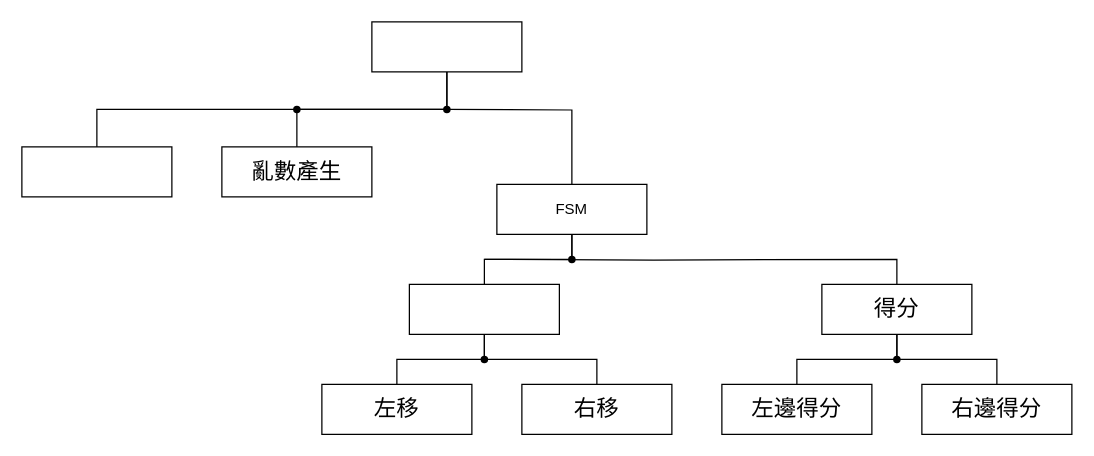
Some shapes in this 1094 by 456 pixel diagram are drawn without their labels. The centre of each missing label's shape, as x and y in pixels:
移動: the point at 483,308
變速球: the point at 446,46
除頻: the point at 96,171
